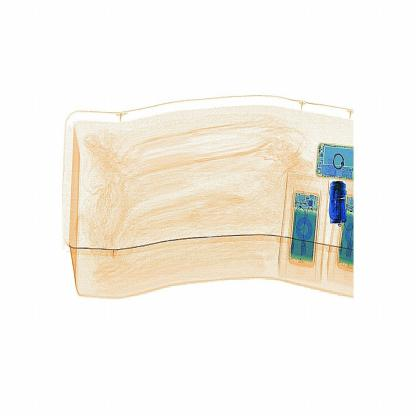scissors: (324, 171, 352, 228)
